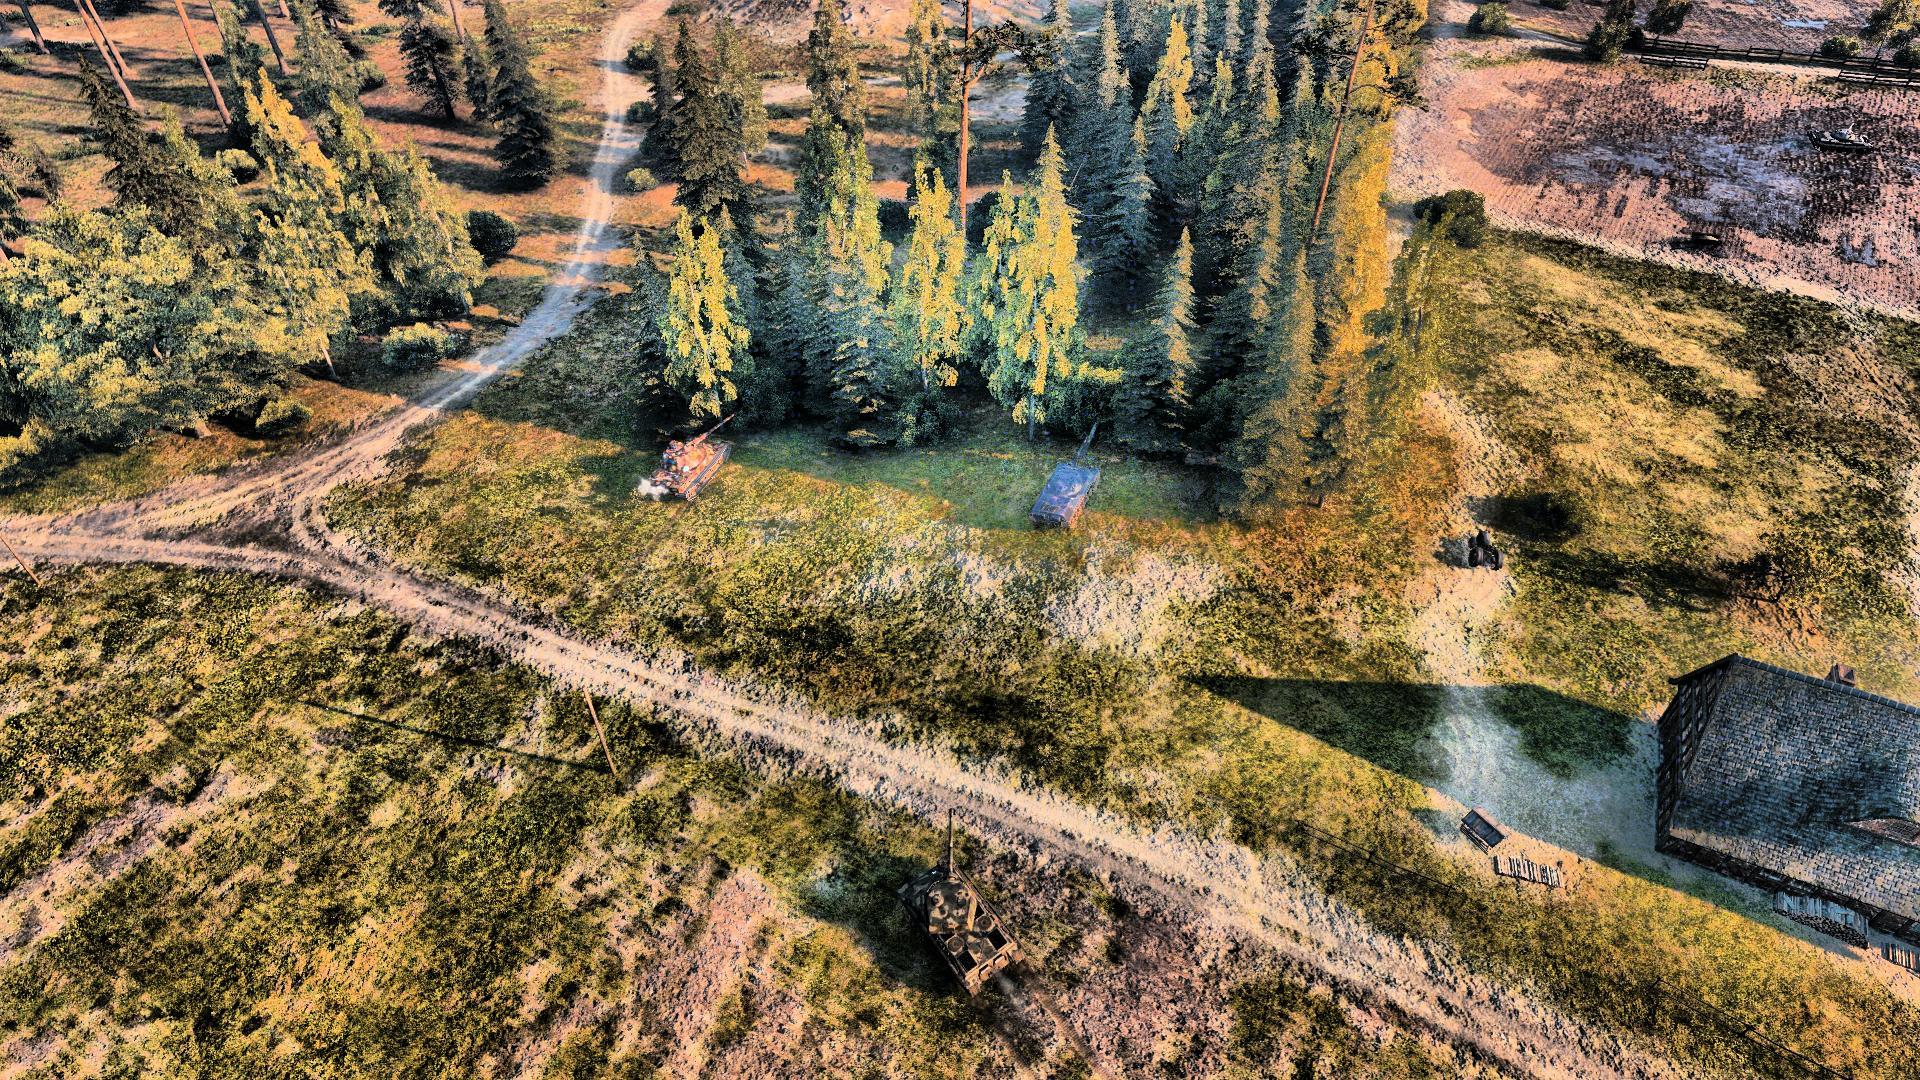military-vehicle: (901, 808, 1025, 996), (645, 415, 737, 505), (1034, 430, 1105, 535)
